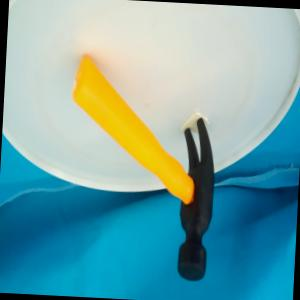martelo: (60, 52, 220, 282)
